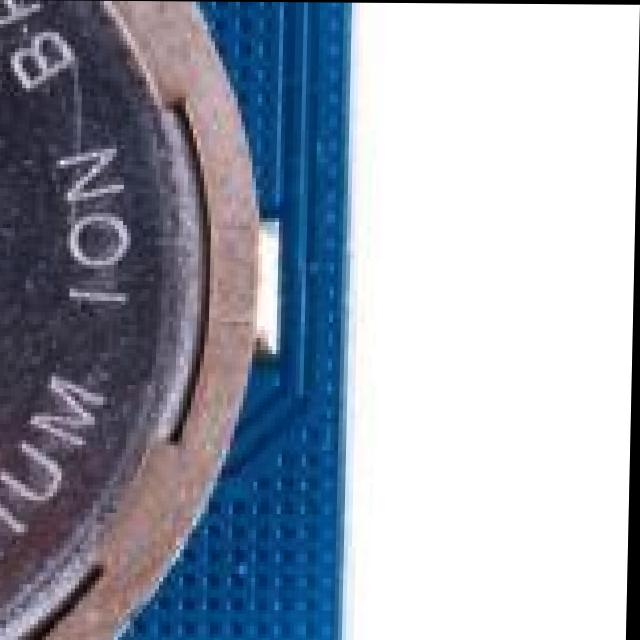battery: (0, 0, 268, 640)
